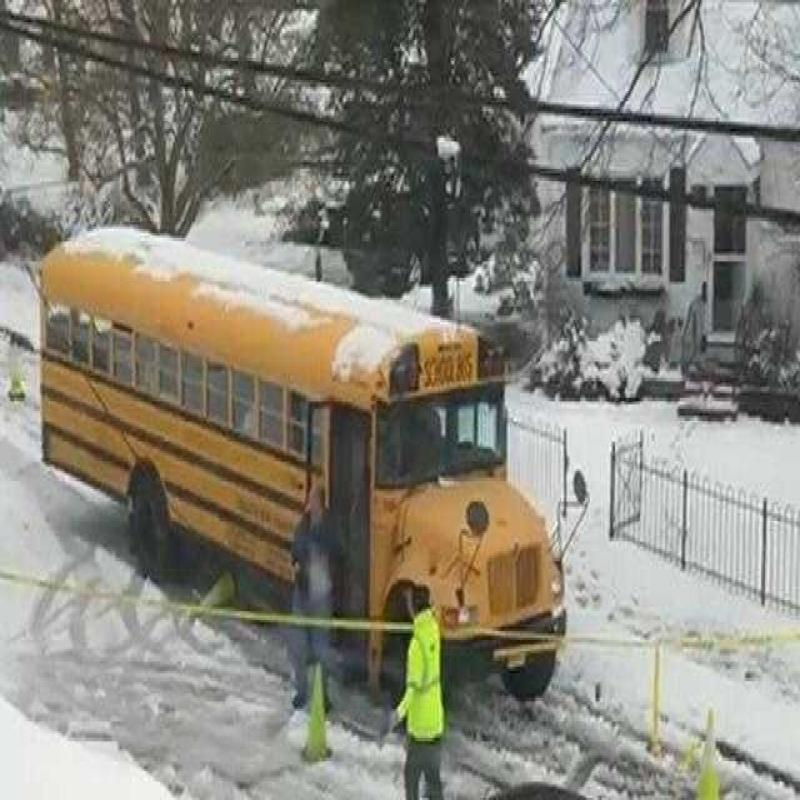bus: (21, 156, 585, 715)
